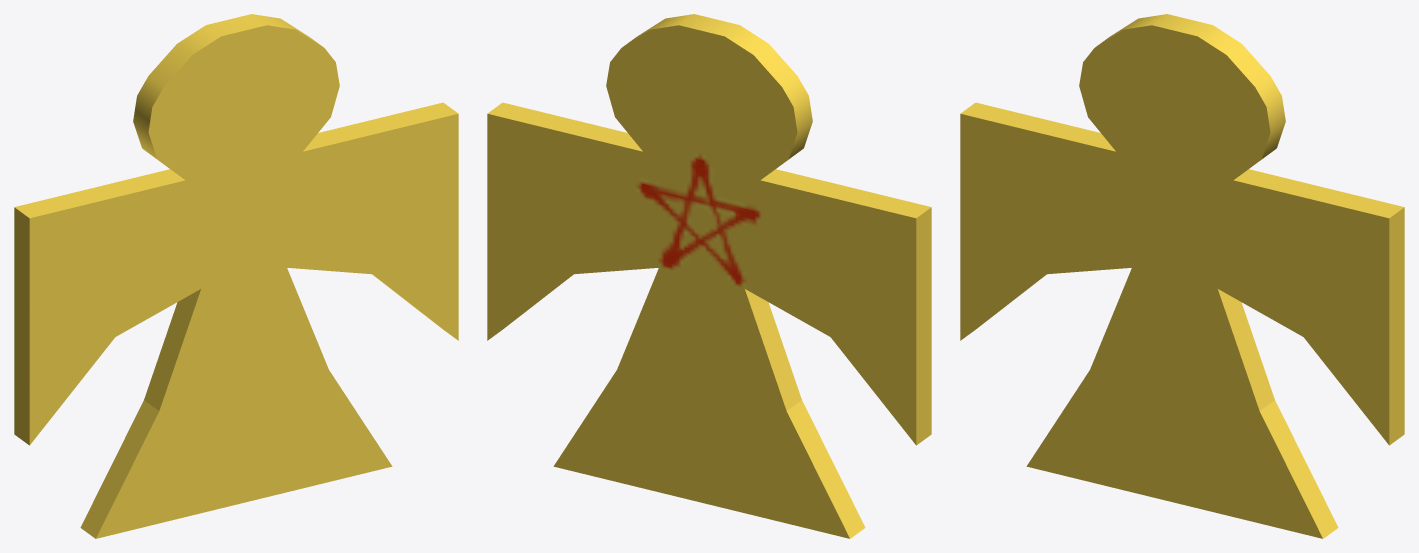
File: hikiyose1.fbx
The picture shows the model from 3 angles, left to right: view 1: azimuth 30°, elevation 25°; view 2: azimuth 150°, elevation 25°; view 3: azimuth 330°, elevation 25°; orthographic projection.
Parts seen in each view (by area): view 1: pCube1; view 2: pCube1; view 3: pCube1.
Part boxes in pixels (x1=…): pCube1: x1=14, y1=14, x2=458, y2=538; pCube1: x1=487, y1=14, x2=931, y2=538; pCube1: x1=960, y1=14, x2=1404, y2=538.
Bounding box in the file's own units: 50 × 52.56 × 3.1.
Materials: 1 (1 with a texture image).
